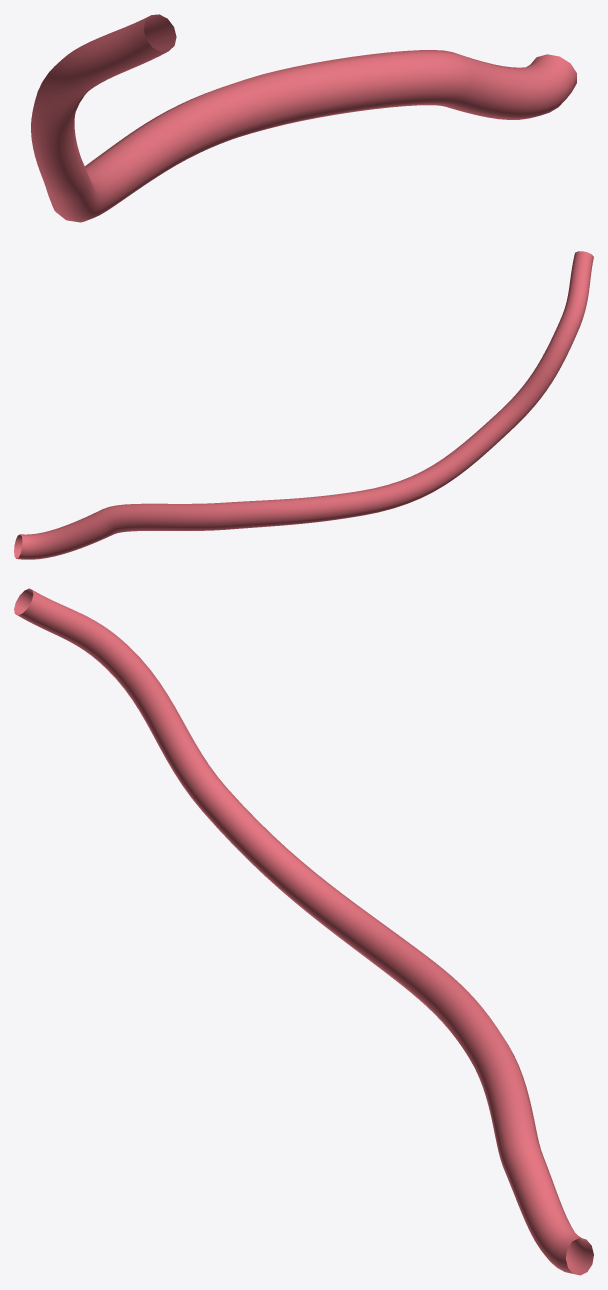
The picture shows the model from 3 angles, top to bottom: view 1: azimuth 30°, elevation 25°; view 2: azimuth 150°, elevation 25°; view 3: azimuth 270°, elevation 25°; orthographic projection. The views are drawn at different scales.
Visible parts, largest first — view 1: ZA_2ae1aae583dc2a7e; view 2: ZA_2ae1aae583dc2a7e; view 3: ZA_2ae1aae583dc2a7e.
Part boxes in pixels (bbox=[...]): ZA_2ae1aae583dc2a7e: bbox=[31, 14, 576, 222]; ZA_2ae1aae583dc2a7e: bbox=[14, 251, 593, 559]; ZA_2ae1aae583dc2a7e: bbox=[14, 588, 593, 1275].
Size of the model in its own units: 0.038 by 0.0236 by 0.0306.
